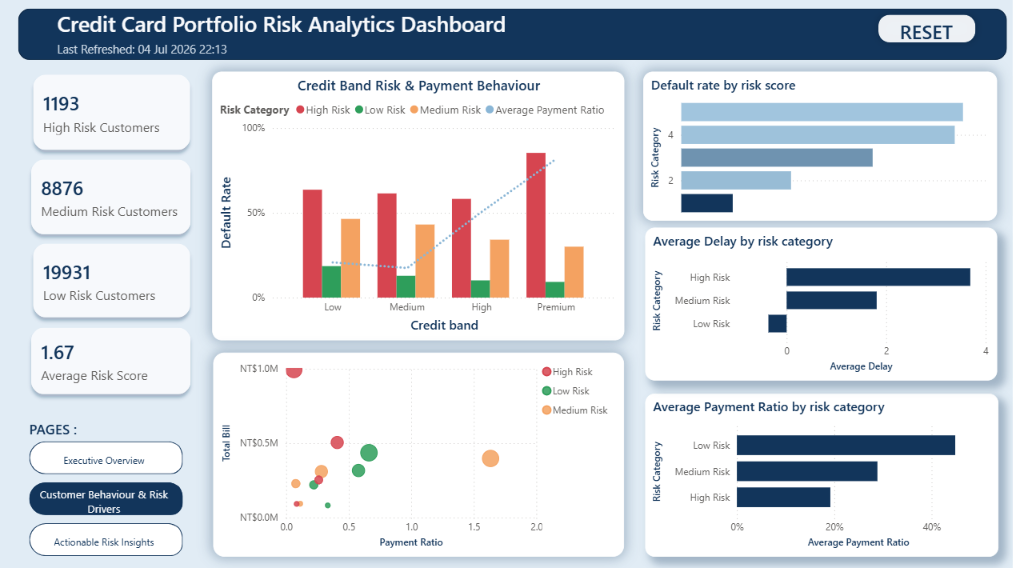

The page's visual inventory and layout, read from the dashboard file:
{"tool":"powerbi","page":{"name":"Customer Behaviour & Risk Drivers","canvas":[1280,720],"ordinal":1},"visuals":[{"type":"shape","box":[28.6,14.3,1235.7,64.3],"z":0},{"type":"textbox","title":"Credit Card Portfolio Risk Analytics Dashboard","box":[72.9,14.3,624.3,64.3],"z":1000},{"type":"cardVisual","fields":{"Data":["Measures (2).High Risk Customers"]},"box":[18.6,67.1,254.3,152.9],"z":2000},{"type":"cardVisual","fields":{"Data":["Measures (2).Medium Risk Customers"]},"box":[15.7,174.3,257.1,151.4],"z":3000},{"type":"cardVisual","fields":{"Data":["Measures (2).Low Risk Customers"]},"box":[18.6,278.6,254.3,150],"z":4000},{"type":"cardVisual","fields":{"Data":["Measures (2).Average Risk Score"]},"box":[15.7,384.3,257.1,141.4],"z":5000},{"type":"shape","box":[1093.3,11.7,141.7,55],"z":6000},{"type":"actionButton","title":"RESET","box":[1117,26,92.9,28.6],"z":7000},{"type":"barChart","title":"Default rate by education","fields":{"Category":["customers.Education Name"],"Y":["Measures (2).Default Rate"]},"box":[830,297.1,422.9,172.9],"z":8000},{"type":"pageNavigator","title":"PAGES :","box":[42.9,527.1,192.9,171.4],"z":9000},{"type":"decompositionTreeVisual","fields":{"Analyze":["Measures (2).Total Customers"],"ExplainBy":["customers.risk_category","customers.credit_band","customers.age_group"]},"box":[272.9,91.4,531.4,337.1],"z":10000},{"type":"scatterChart","fields":{"Category":["customers.credit_band"],"Series":["customers.risk_category"],"Size":["Avg(customers.LIMIT_BAL)"],"X":["Avg(customers.payment_ratio)"],"Y":["Avg(customers.total_bill)"]},"box":[272.5,443.8,531.2,255],"z":11000},{"type":"barChart","title":"Default rate by marital status","fields":{"Category":["customers.Marital Status"],"Y":["Measures (2).Default Rate"]},"box":[830,495.7,422.9,202.9],"z":12000},{"type":"barChart","title":"Default rate by risk score","fields":{"Category":["customers.risk_score"],"Y":["Measures (2).Default Rate"]},"box":[830,100,422.9,178.6],"z":13000}]}

Visuals, with their boxes in screenshot pixels (x1, y1, x2, y2), scaled from the page's 1280x720 canvas onto the 1013x568 screenshot:
shape: pyautogui.locateOnScreen(23, 11, 1001, 62)
"Credit Card Portfolio Risk Analytics Dashboard" textbox: pyautogui.locateOnScreen(58, 11, 552, 62)
cardVisual - Measures (2).High Risk Customers: pyautogui.locateOnScreen(15, 53, 216, 174)
cardVisual - Measures (2).Medium Risk Customers: pyautogui.locateOnScreen(12, 138, 216, 257)
cardVisual - Measures (2).Low Risk Customers: pyautogui.locateOnScreen(15, 220, 216, 338)
cardVisual - Measures (2).Average Risk Score: pyautogui.locateOnScreen(12, 303, 216, 415)
shape: pyautogui.locateOnScreen(865, 9, 977, 53)
"RESET" actionButton: pyautogui.locateOnScreen(884, 21, 958, 43)
"Default rate by education" barChart: pyautogui.locateOnScreen(657, 234, 992, 371)
"PAGES :" pageNavigator: pyautogui.locateOnScreen(34, 416, 187, 551)
decompositionTreeVisual - Measures (2).Total Customers x customers.risk_category: pyautogui.locateOnScreen(216, 72, 637, 338)
scatterChart - customers.credit_band x customers.risk_category: pyautogui.locateOnScreen(216, 350, 636, 551)
"Default rate by marital status" barChart: pyautogui.locateOnScreen(657, 391, 992, 551)
"Default rate by risk score" barChart: pyautogui.locateOnScreen(657, 79, 992, 220)
